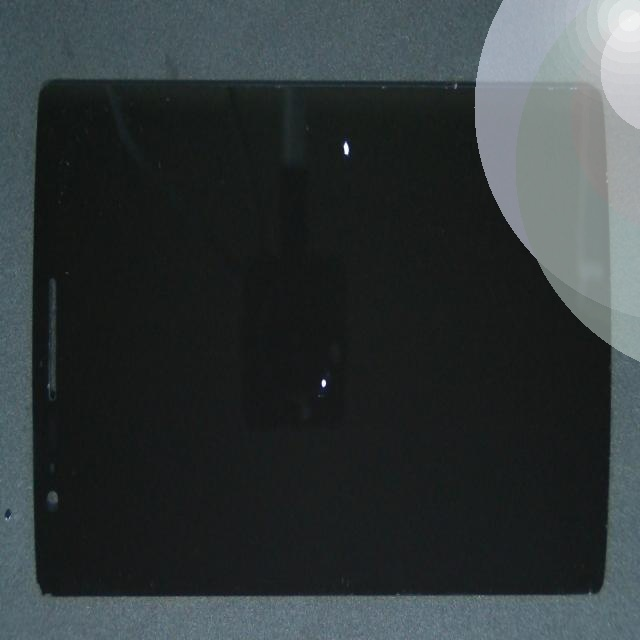stain: (173, 144, 473, 539), (178, 9, 505, 199)
